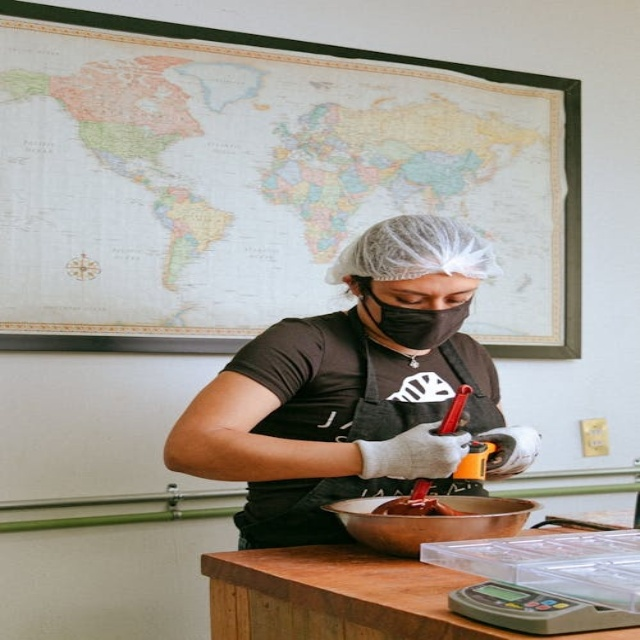Guantes: (355, 421, 476, 481), (474, 425, 543, 476)
Mascara: (360, 283, 473, 350)
Sin_gafas: (383, 284, 470, 309)
